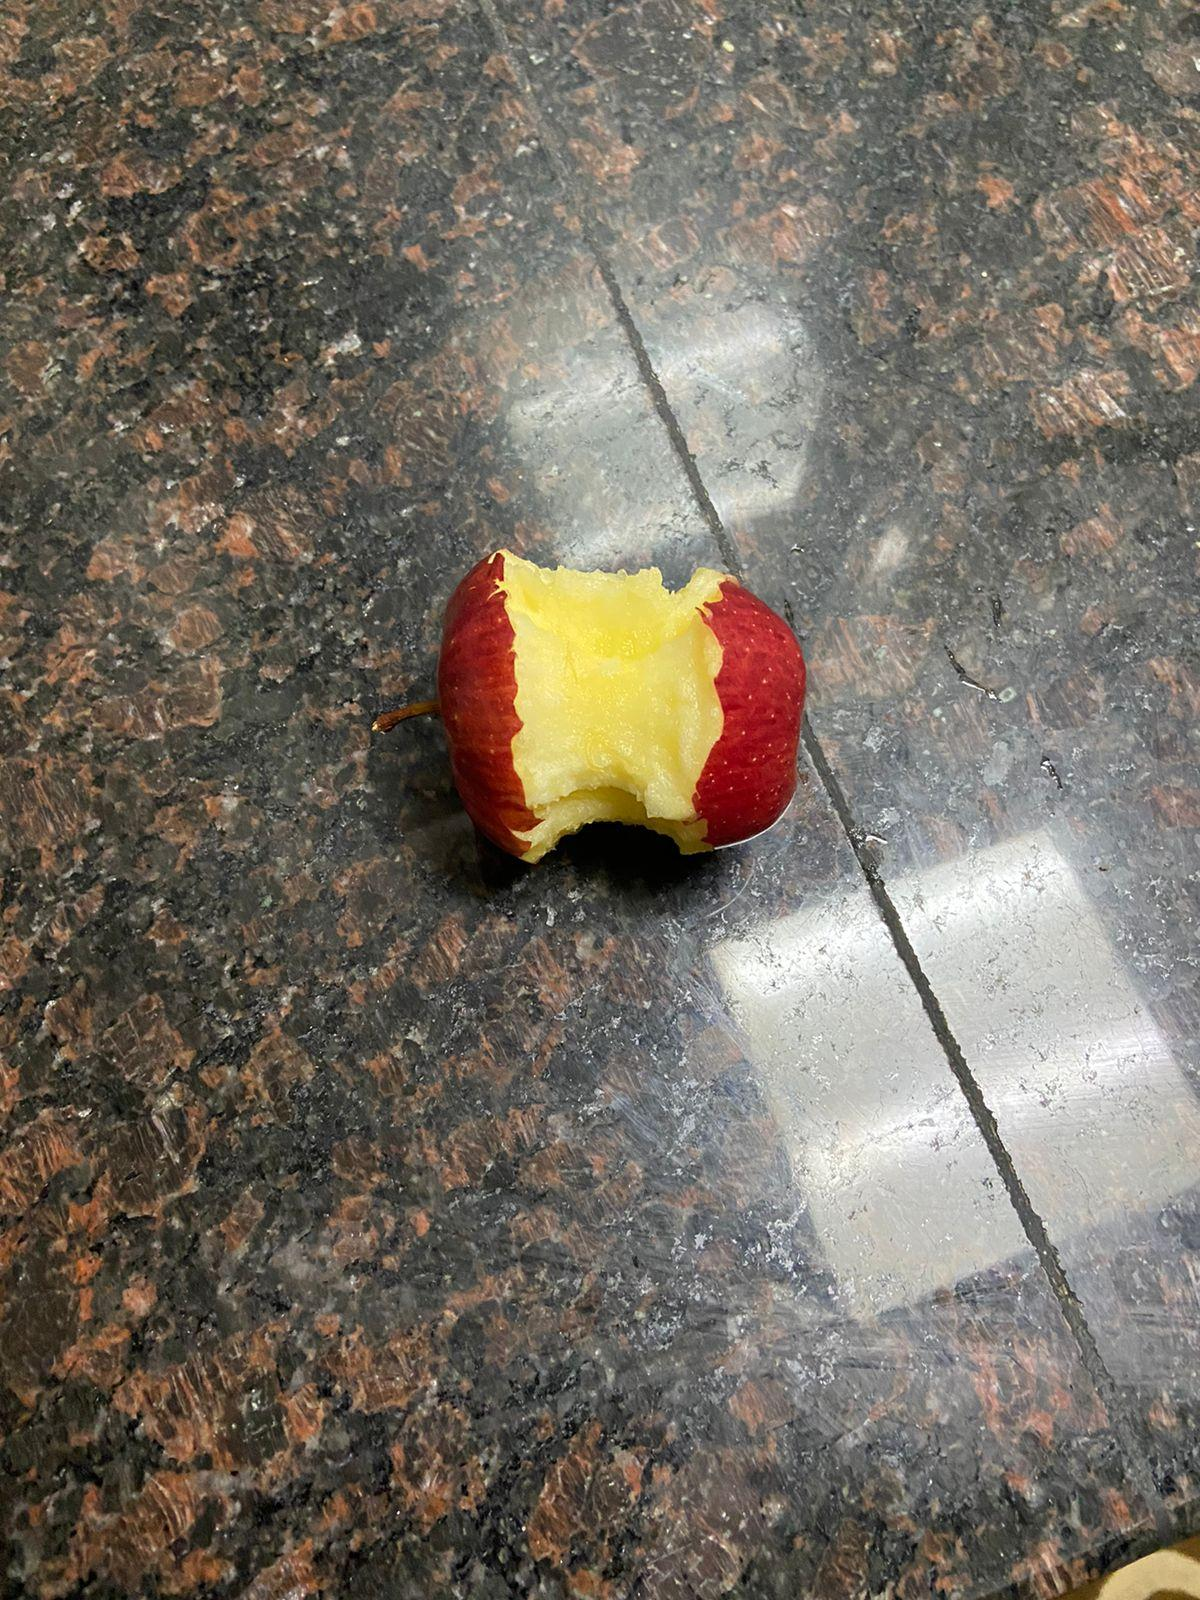Apple: (361, 567, 828, 884)
